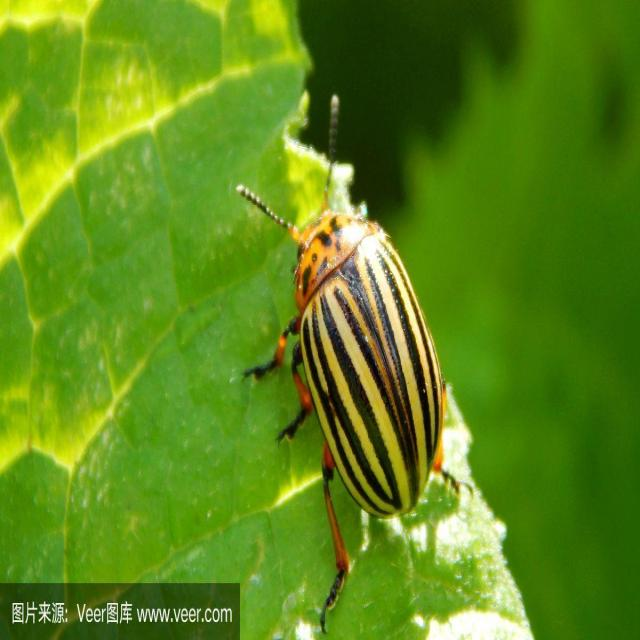ShuCaiHuaBanChong-Grown-: (258, 177, 462, 558)
